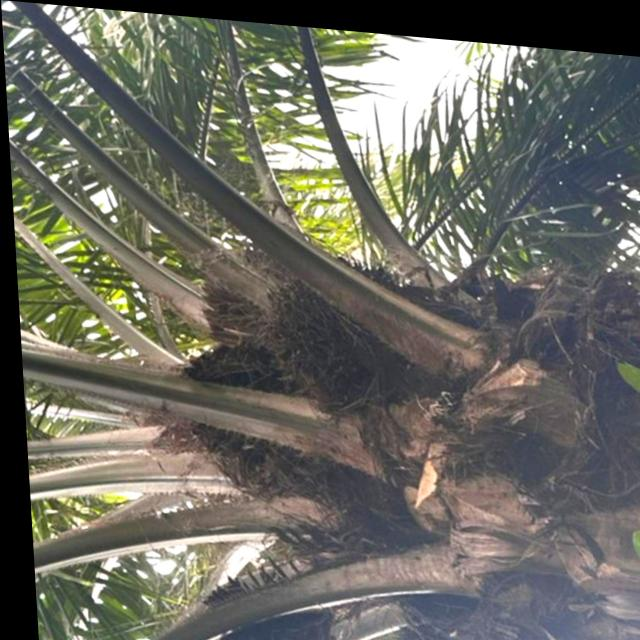unripe: (248, 233, 446, 420), (162, 323, 343, 506)
